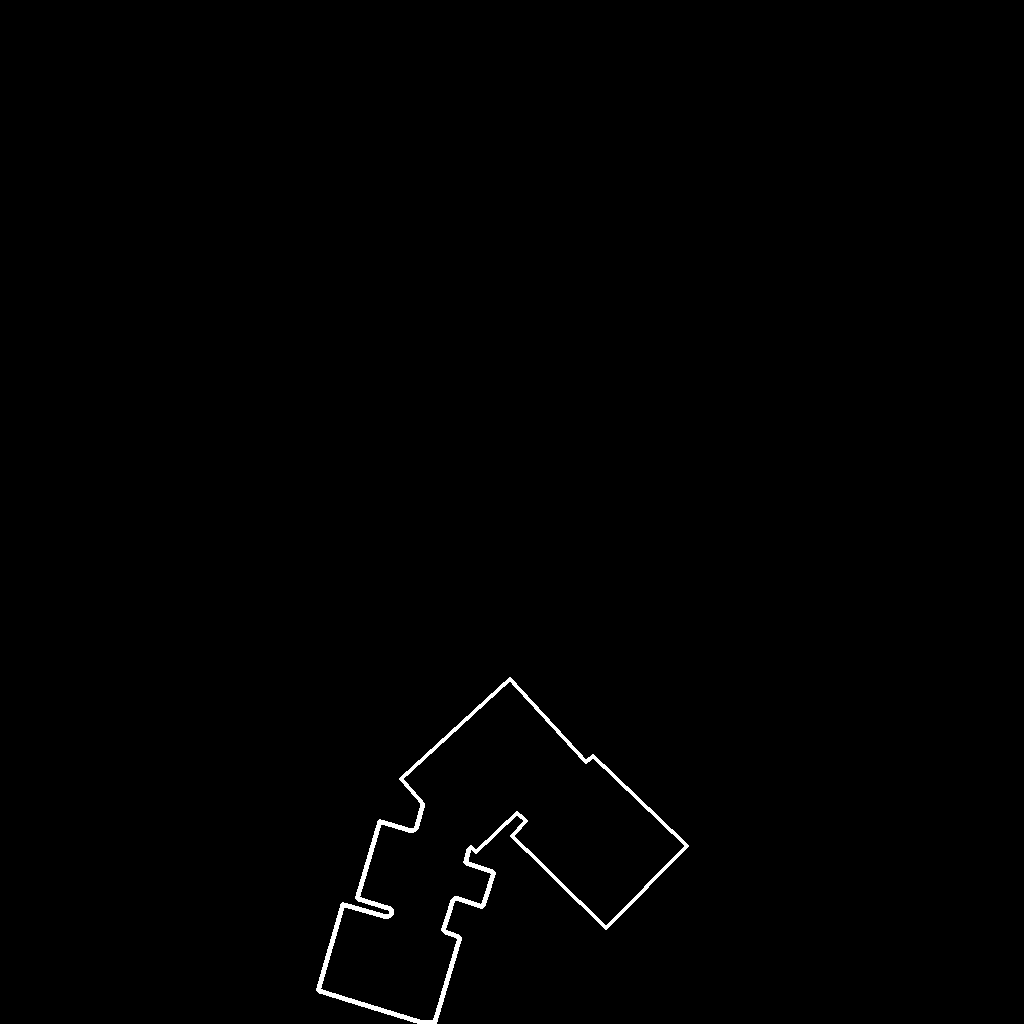building: (318, 679, 688, 1024)
